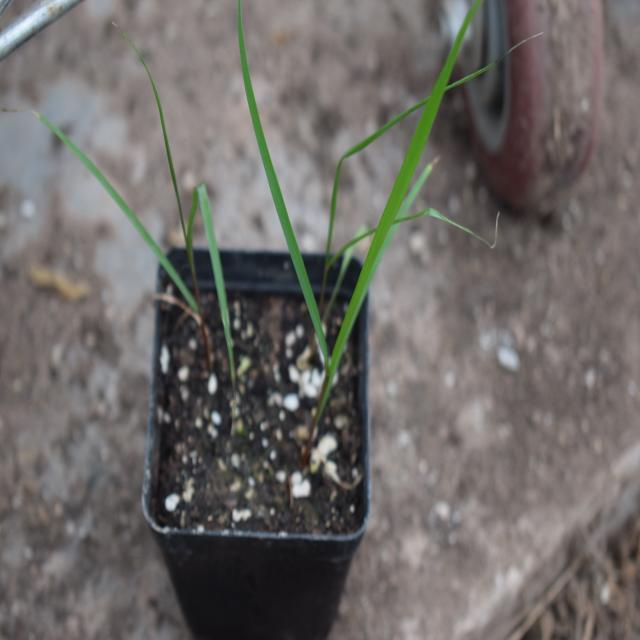green_foxtail: (239, 51, 456, 393), (56, 90, 246, 366)
